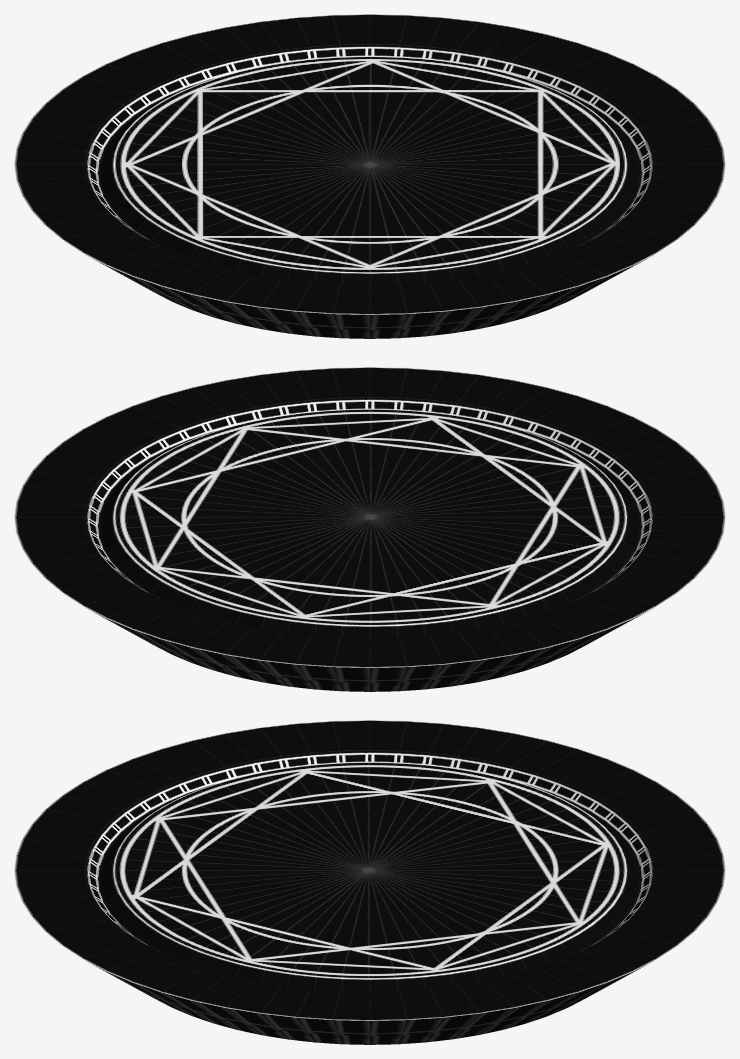
File: m_arena_platform.fbx
3 views of the same model, one above another, from view 1: azimuth 30°, elevation 25°; view 2: azimuth 150°, elevation 25°; view 3: azimuth 270°, elevation 25° (orthographic).
Parts seen in each view (by area): view 1: pCylinder65; view 2: pCylinder65; view 3: pCylinder65.
Part boxes in pixels (x1,y1,x2,y2): pCylinder65: [14, 14, 725, 338]; pCylinder65: [14, 367, 725, 691]; pCylinder65: [14, 720, 725, 1044].
Bounding box in the file's own units: 2 × 0.3458 × 2.
1 material, 1 textured.
